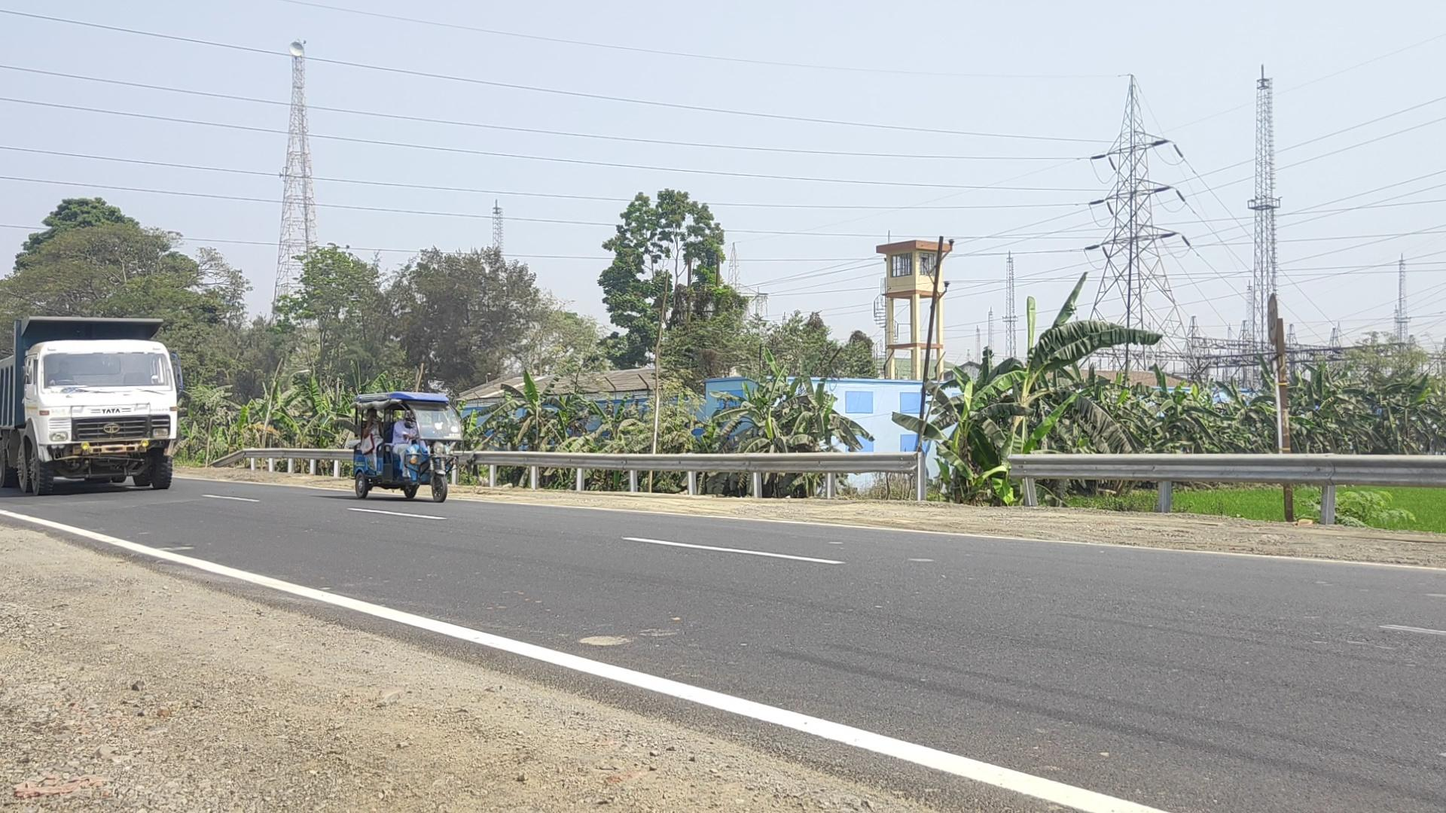Auto: (352, 391, 464, 504)
truck: (1, 315, 182, 498)
